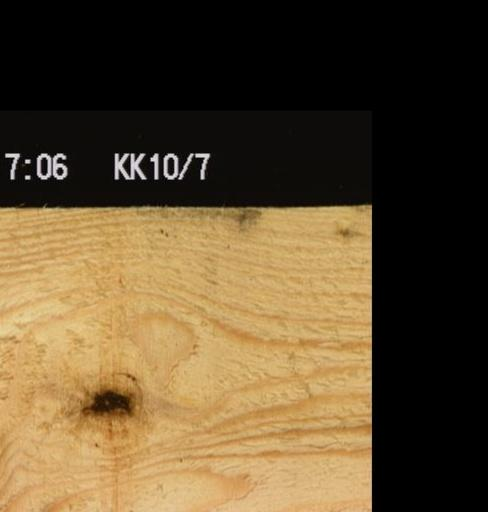small_knot: (334, 223, 357, 238)
